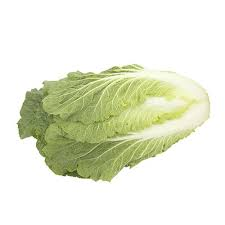cabbage: (16, 56, 214, 182)
